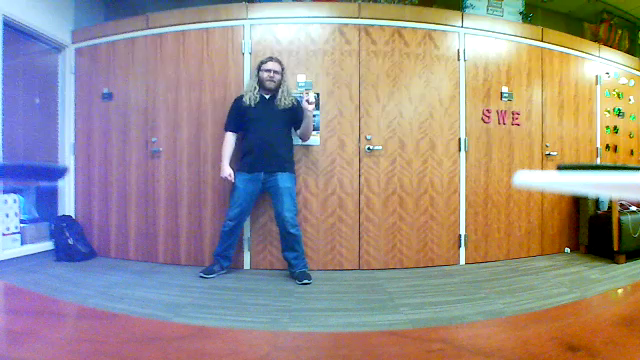up: (298, 84, 322, 117)
